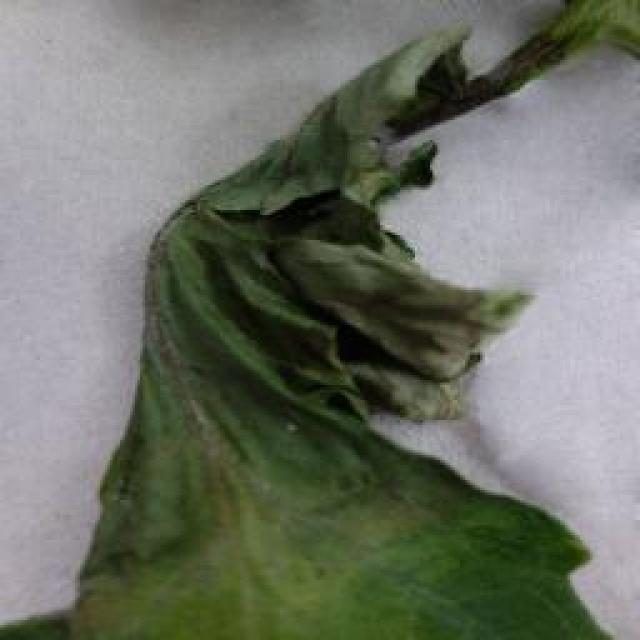Tomato___Late_blight: (0, 0, 638, 638)
